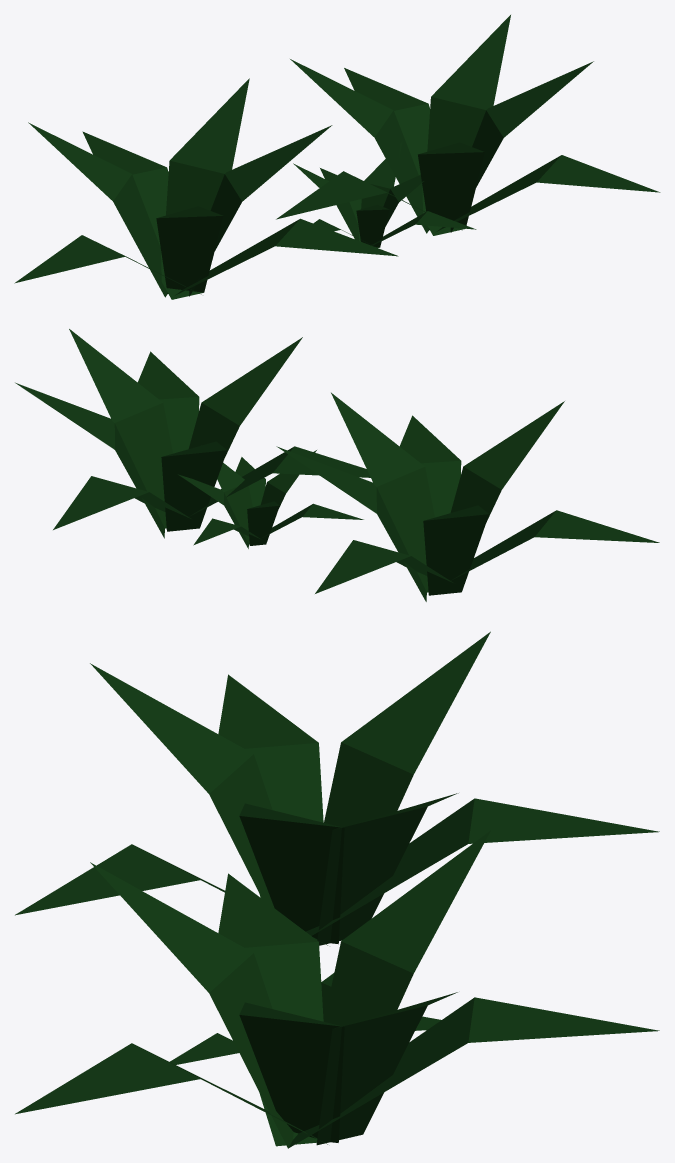
File: Model_Grass.fbx
3 renders of one model, top to bottom at view 1: azimuth 30°, elevation 25°; view 2: azimuth 150°, elevation 25°; view 3: azimuth 270°, elevation 25°, orthographic. The views are drawn at different scales.
Parts seen in each view (by area): view 1: Obj3d66-1716343-39-142, Obj3d66-1716343-39-140, Obj3d66-1716343-39-141; view 2: Obj3d66-1716343-39-142, Obj3d66-1716343-39-140, Obj3d66-1716343-39-141; view 3: Obj3d66-1716343-39-140, Obj3d66-1716343-39-142, Obj3d66-1716343-39-141.
Boxes of the visible parts, <box> form: Obj3d66-1716343-39-142: <box>14,78,398,299</box>; Obj3d66-1716343-39-140: <box>276,15,660,235</box>; Obj3d66-1716343-39-141: <box>293,141,476,247</box>; Obj3d66-1716343-39-142: <box>276,392,659,601</box>; Obj3d66-1716343-39-140: <box>15,329,370,538</box>; Obj3d66-1716343-39-141: <box>178,450,363,548</box>; Obj3d66-1716343-39-140: <box>15,830,659,1148</box>; Obj3d66-1716343-39-142: <box>15,631,659,945</box>; Obj3d66-1716343-39-141: <box>170,973,441,1064</box>.
Size of the model in its own units: 15111 by 3696 by 9268.
